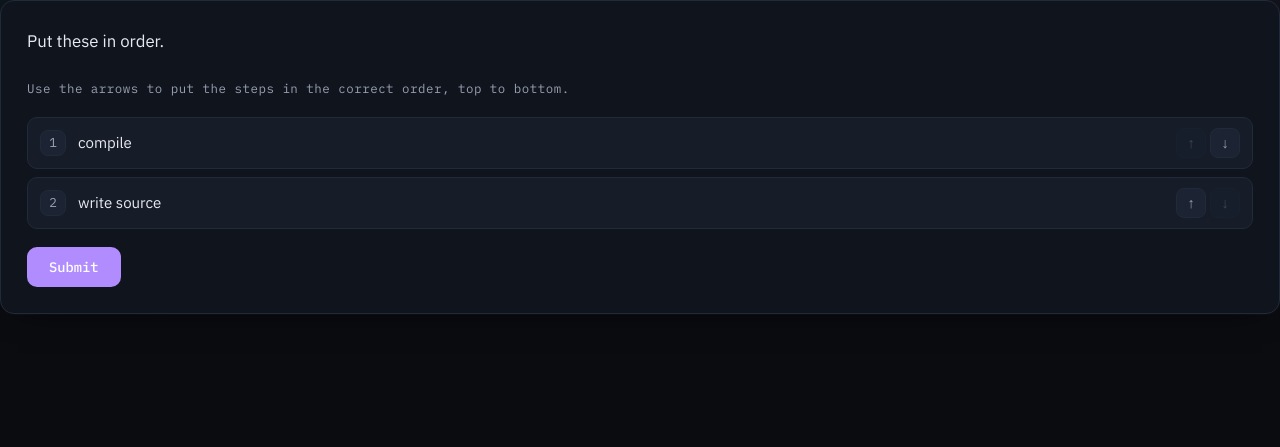
Scenario: QuestionCard (order) › grades the untouched starting arrangement as incorrect
Click the button "Submit" at coordinates (74, 268), box [27,248,120,288]
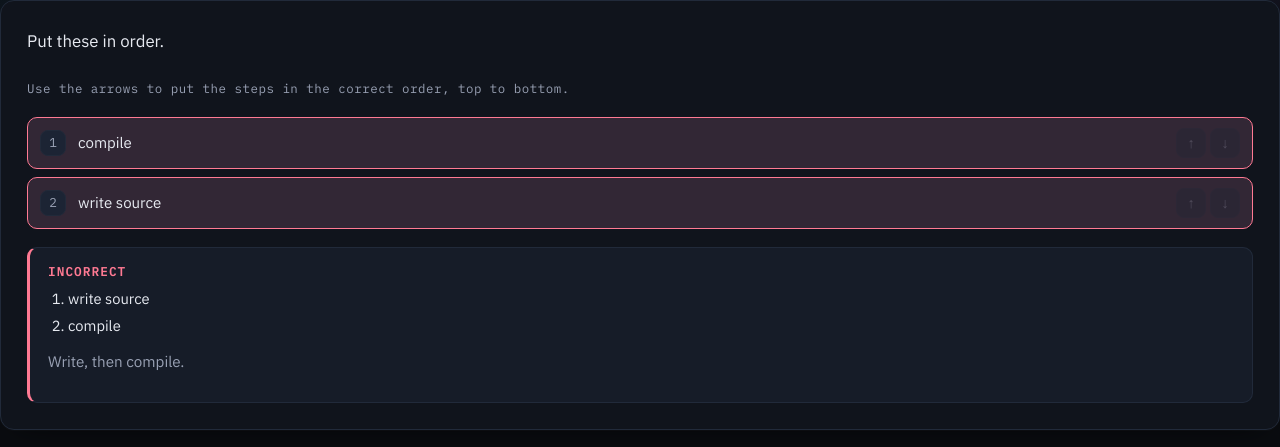
Now the text "Write, then compile." is shown, box [48,351,184,371]
